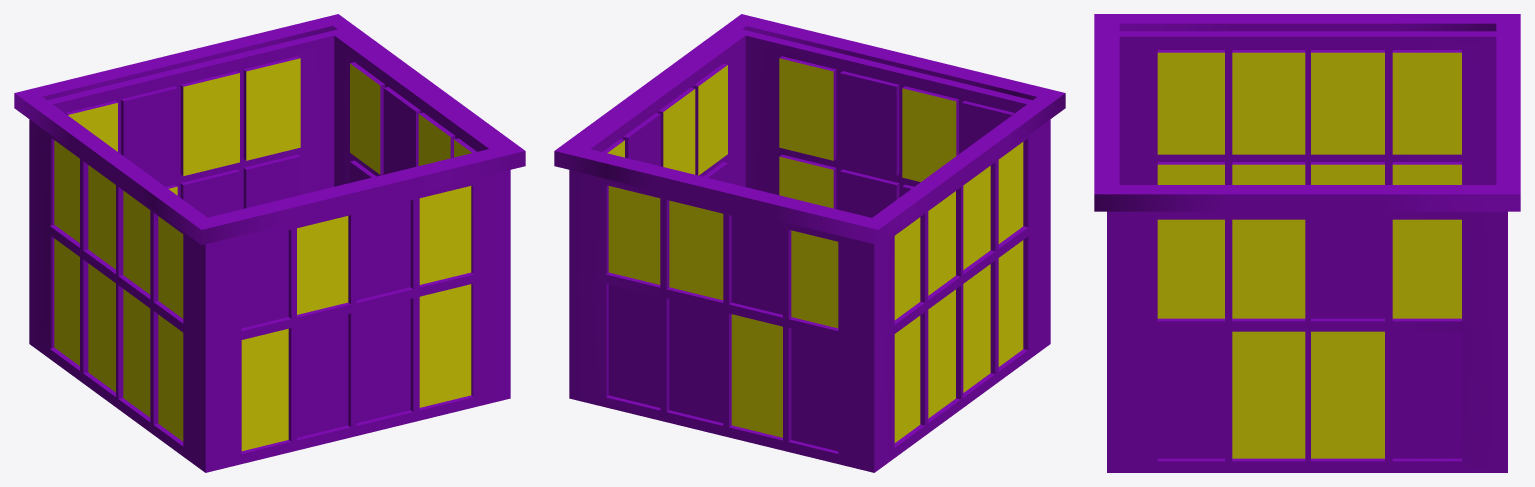
File: Building_Small_Peice_002.fbx
3 views of the same model, side by side, from view 1: azimuth 30°, elevation 25°; view 2: azimuth 150°, elevation 25°; view 3: azimuth 270°, elevation 25° (orthographic). The views are drawn at different scales.
Visible parts, largest first — view 1: Building_Small_Piece_002; view 2: Building_Small_Piece_002; view 3: Building_Small_Piece_002.
Boxes of the visible parts, left/top/right/bottom form: Building_Small_Piece_002: left=14, top=14, right=525, bottom=472; Building_Small_Piece_002: left=554, top=14, right=1065, bottom=472; Building_Small_Piece_002: left=1094, top=14, right=1520, bottom=472.
Size of the model in its own units: 5440 by 4000 by 5440.
